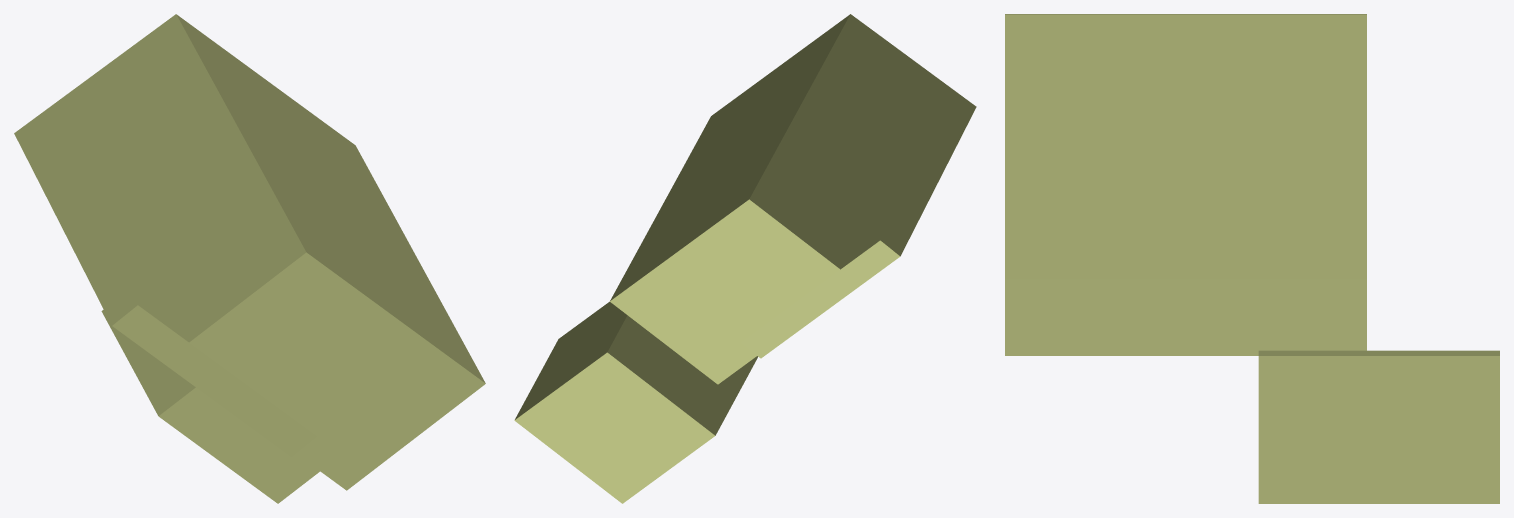
3 renders of one model, left to right at view 1: azimuth 30°, elevation 25°; view 2: azimuth 150°, elevation 25°; view 3: azimuth 270°, elevation 25°, orthographic. The views are drawn at different scales.
Visible parts, largest first — view 1: 0_1_1_3_2_2_3_0_1_1_0; view 2: 0_1_1_3_2_2_3_0_1_1_0; view 3: 0_1_1_3_2_2_3_0_1_1_0.
Boxes of the visible parts, x1,y1,x2,y2 form: 0_1_1_3_2_2_3_0_1_1_0: (14, 14, 485, 503); 0_1_1_3_2_2_3_0_1_1_0: (514, 14, 976, 503); 0_1_1_3_2_2_3_0_1_1_0: (1005, 14, 1499, 503).
Size of the model in its own units: 10.11 by 12.79 by 12.3.
